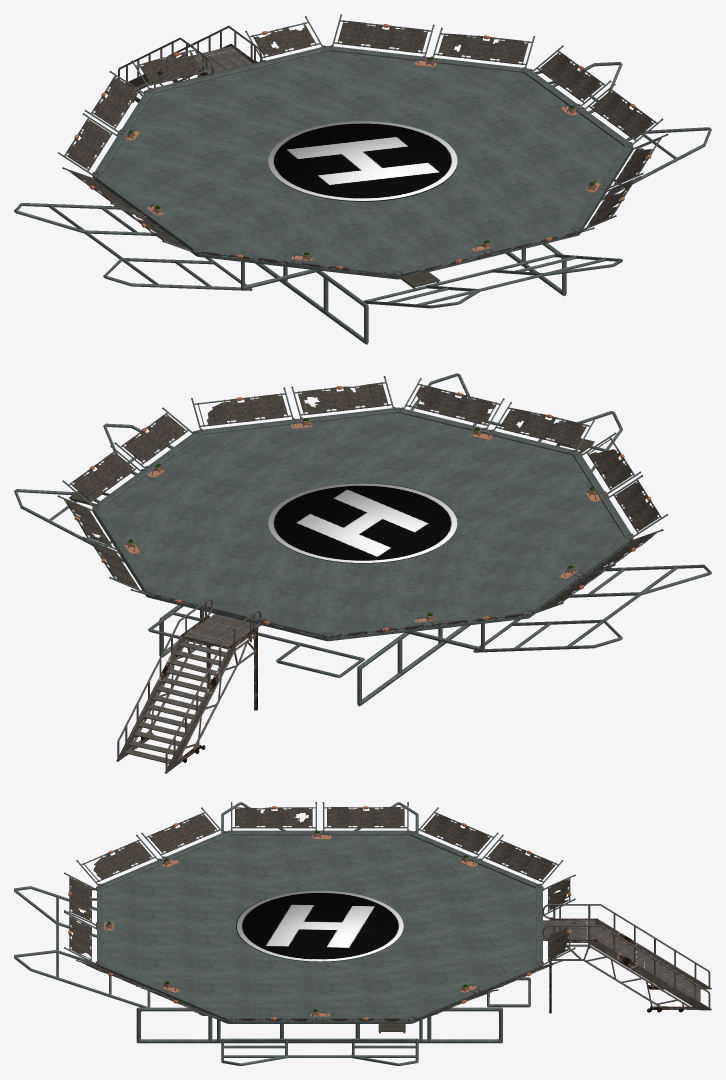
Rendered from Helipad.fbx.
3 renders of one model, top to bottom at view 1: azimuth 30°, elevation 25°; view 2: azimuth 150°, elevation 25°; view 3: azimuth 270°, elevation 25°, orthographic. The views are drawn at different scales.
Visible parts, largest first — view 1: Helipad; view 2: Helipad; view 3: Helipad.
Boxes of the visible parts, x1,y1,x2,y2 form: Helipad: (14, 14, 711, 344); Helipad: (14, 373, 711, 773); Helipad: (14, 802, 711, 1065).
Bounding box in the file's own units: 32.18 × 5.29 × 36.25.
